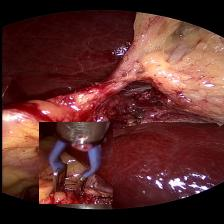Bipolar: (38, 122, 112, 204)
